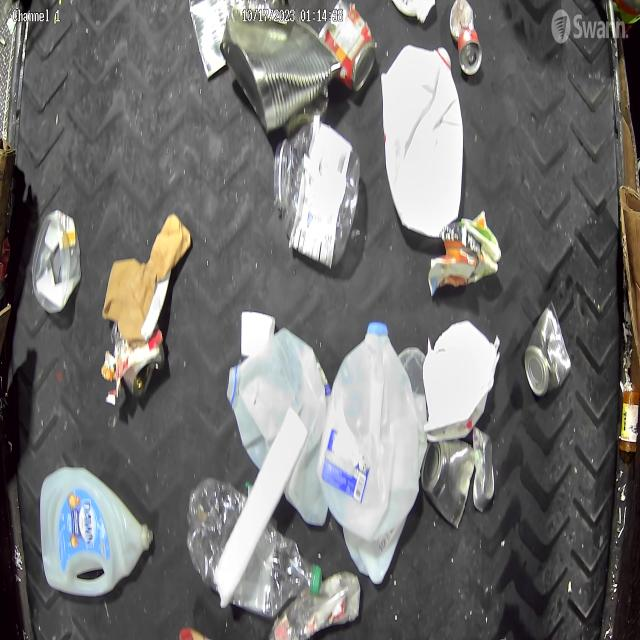can: (222, 8, 340, 132), (319, 1, 376, 95), (422, 437, 476, 528), (525, 301, 571, 398), (190, 0, 234, 82), (451, 1, 483, 76), (472, 426, 495, 516)
milk_jug: (319, 323, 424, 548), (227, 328, 330, 526), (381, 45, 464, 238), (42, 464, 154, 597)
